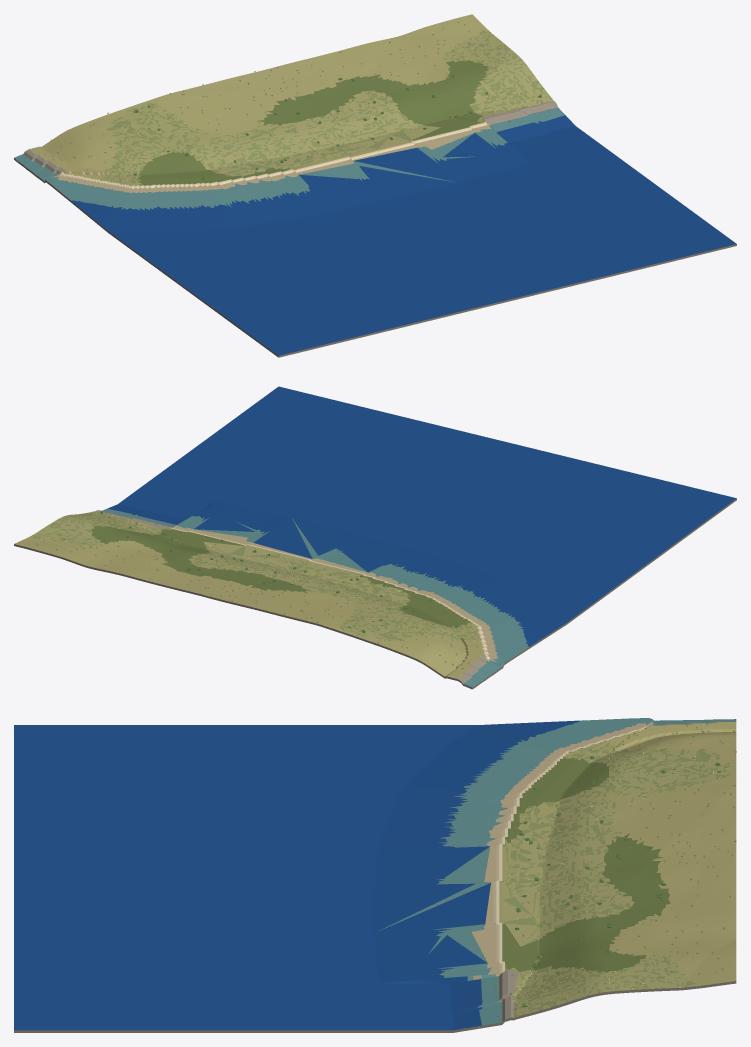
The model's file is parca_-1_-9-yakin.glb.
3 views of the same model, one above another, from view 1: azimuth 30°, elevation 25°; view 2: azimuth 150°, elevation 25°; view 3: azimuth 270°, elevation 25° (orthographic). The views are drawn at different scales.
Visible parts, largest first — view 1: parca_-1_-9_arazi, parca_-1_-9_bitkiler; view 2: parca_-1_-9_arazi, parca_-1_-9_bitkiler; view 3: parca_-1_-9_arazi, parca_-1_-9_bitkiler.
Boxes of the visible parts, <box> form: parca_-1_-9_arazi: <box>14,14,736,357</box>; parca_-1_-9_bitkiler: <box>43,21,549,179</box>; parca_-1_-9_arazi: <box>14,386,736,689</box>; parca_-1_-9_bitkiler: <box>36,511,477,669</box>; parca_-1_-9_arazi: <box>14,718,736,1032</box>; parca_-1_-9_bitkiler: <box>510,723,736,1014</box>.
Bounding box in the file's own units: 1000 × 79.97 × 1001.
